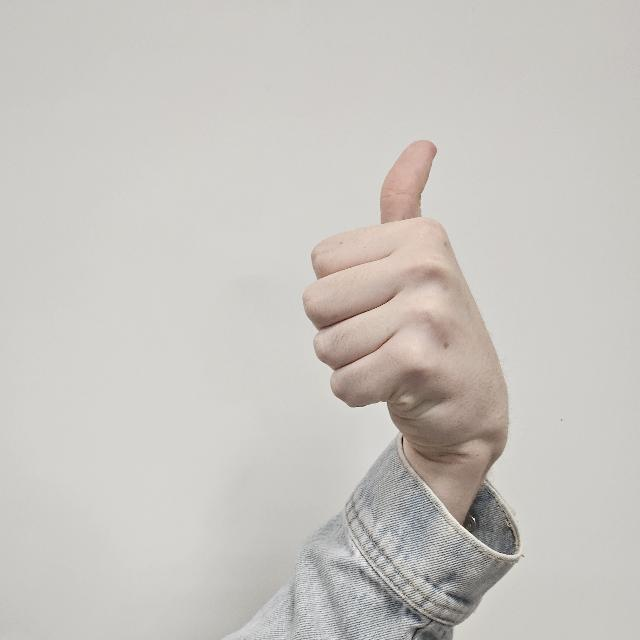Start: (300, 124, 492, 456)
